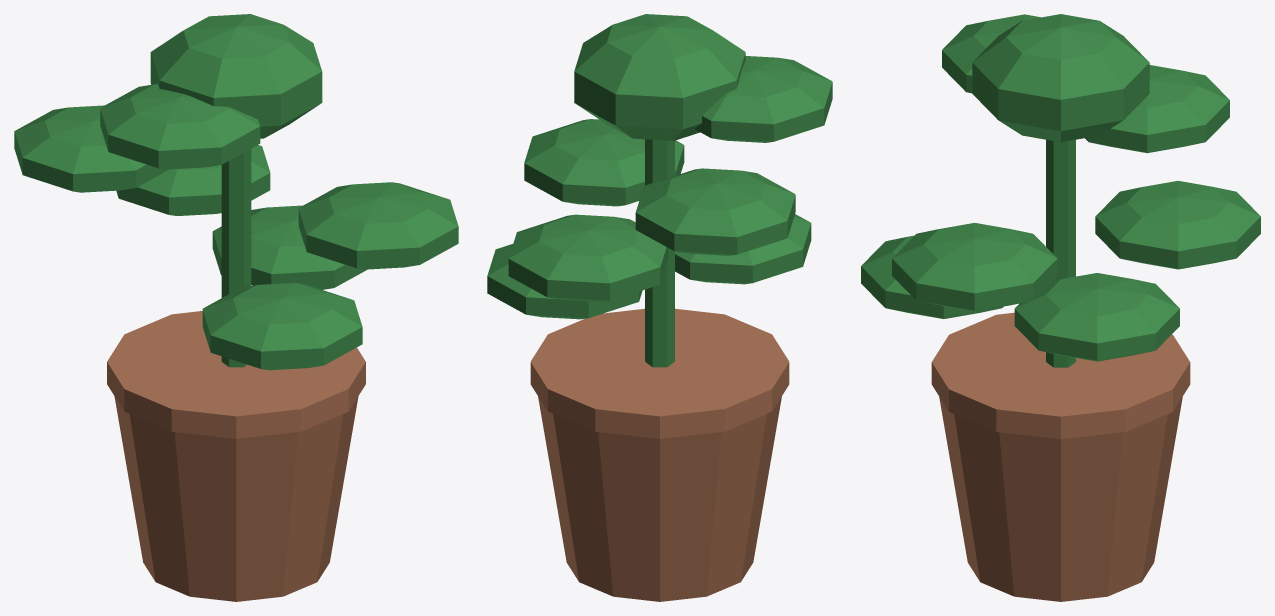
The model's file is potted_plant.glb.
3 renders of one model, left to right at view 1: azimuth 30°, elevation 25°; view 2: azimuth 150°, elevation 25°; view 3: azimuth 270°, elevation 25°, orthographic.
Parts seen in each view (by area): view 1: Potted Plant; view 2: Potted Plant; view 3: Potted Plant.
Part boxes in pixels (x1,y1,x2,y2): Potted Plant: (14, 14, 458, 601); Potted Plant: (487, 14, 832, 601); Potted Plant: (861, 14, 1260, 601).
Size of the model in its own units: 0.3166 by 0.475 by 0.3217.
